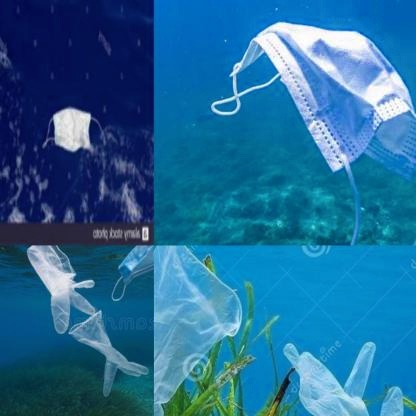Mask: (192, 0, 416, 245), (43, 106, 105, 162), (102, 245, 154, 306)
glove: (154, 246, 249, 416), (282, 336, 416, 416), (68, 318, 149, 402), (24, 246, 96, 331)
